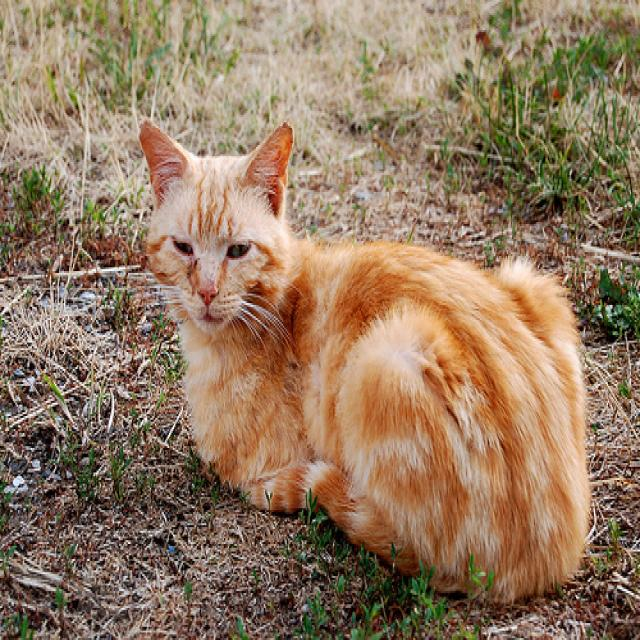left eye: (224, 237, 251, 260)
